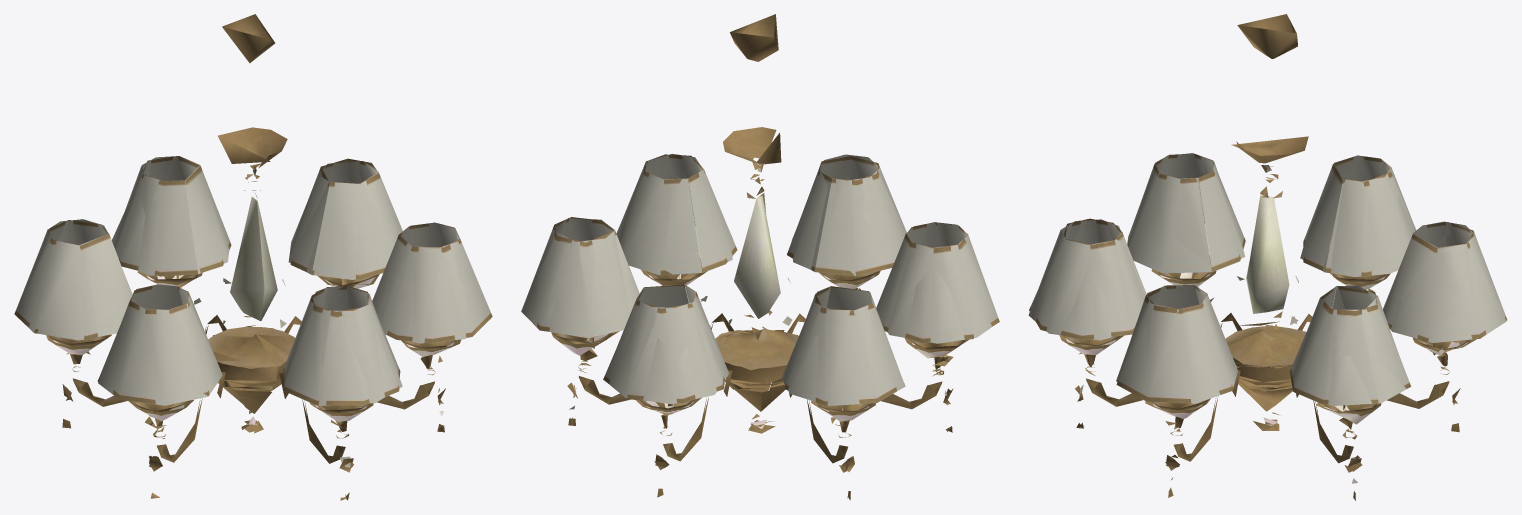
Rendered from ph_Chandelier_01.glb.
The picture shows the model from 3 angles, left to right: view 1: azimuth 30°, elevation 25°; view 2: azimuth 150°, elevation 25°; view 3: azimuth 270°, elevation 25°; orthographic projection.
Visible parts, largest first — view 1: Chandelier_01; view 2: Chandelier_01; view 3: Chandelier_01.
Part boxes in pixels (box(x1,y1,x2,y2)): Chandelier_01: box(14, 14, 492, 500); Chandelier_01: box(521, 14, 999, 500); Chandelier_01: box(1028, 14, 1507, 500).
Size of the model in its own units: 0.7399 by 0.7596 by 0.8166.
2 materials, 1 textured.
